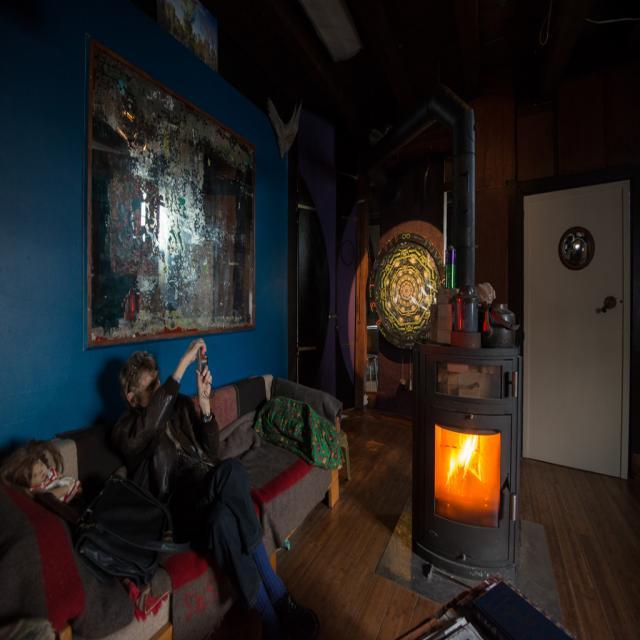Fire: (436, 430, 496, 500)
